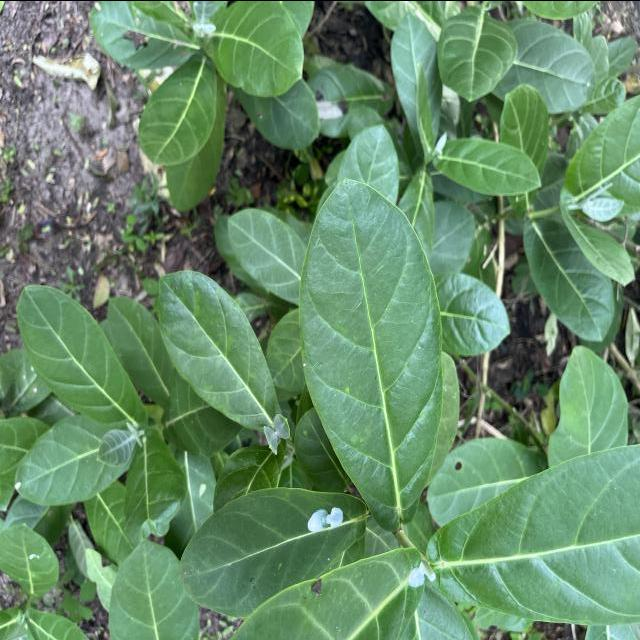Calotropis gigantea: (296, 175, 446, 538), (427, 440, 639, 626), (178, 483, 368, 618), (155, 268, 278, 427), (15, 282, 140, 425), (524, 213, 612, 342), (13, 414, 136, 506), (206, 0, 305, 99), (136, 49, 218, 168), (436, 4, 520, 102), (437, 133, 543, 197)
